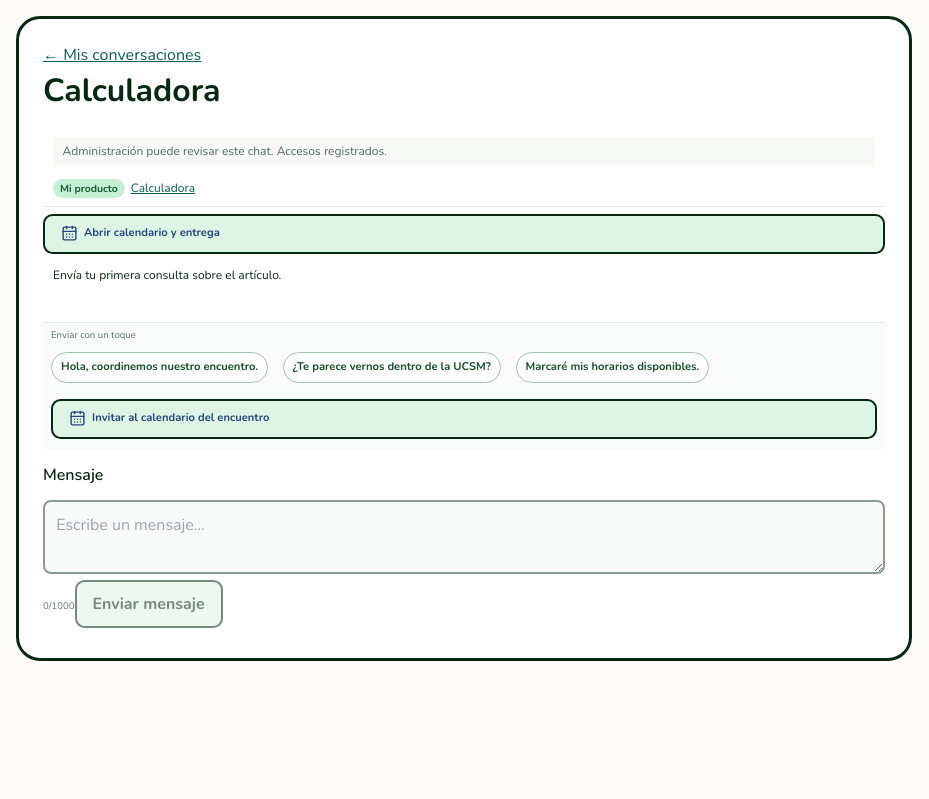
it: sends a typed calendar invitation tied to an accepted deal
Expected: the heading "Calculadora" is shown, [43,69,221,112]
Click the button "Invitar al calendario del encuentro".
click(181, 418)  # box [51,398,877,439]
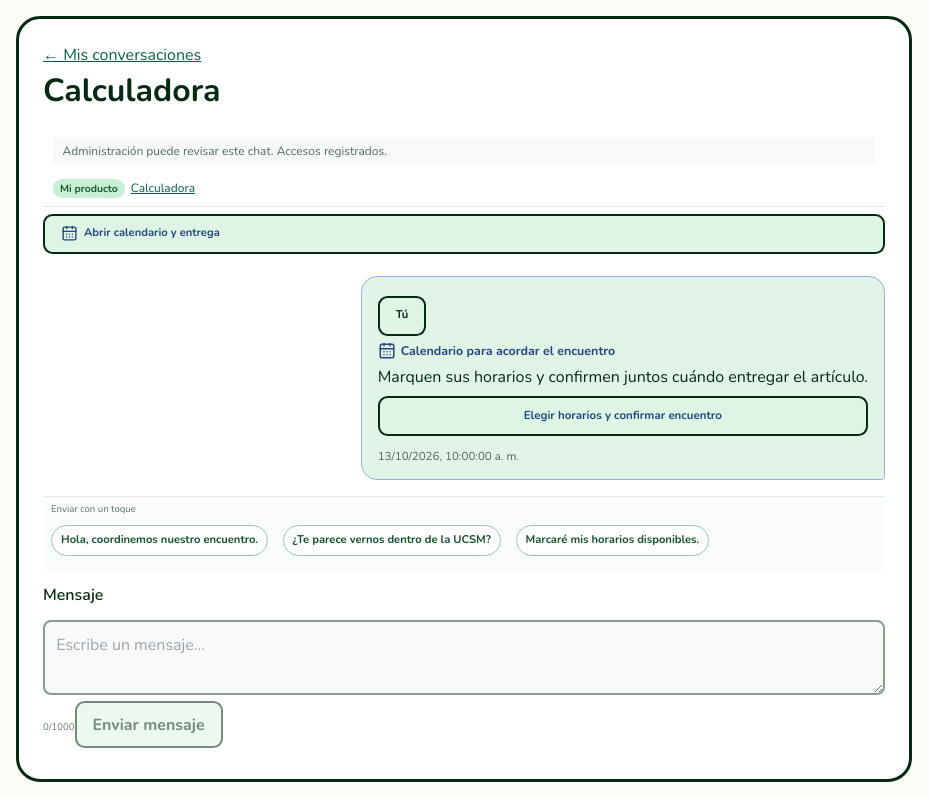
Result: the text "Calendario para acordar el encuentro" is shown at [378,342,615,360]
Result: the button "Elegir horarios y confirmar encuentro" is shown at [378,396,868,436]
Result: the button "Invitar al calendario del encuentro" is gone
